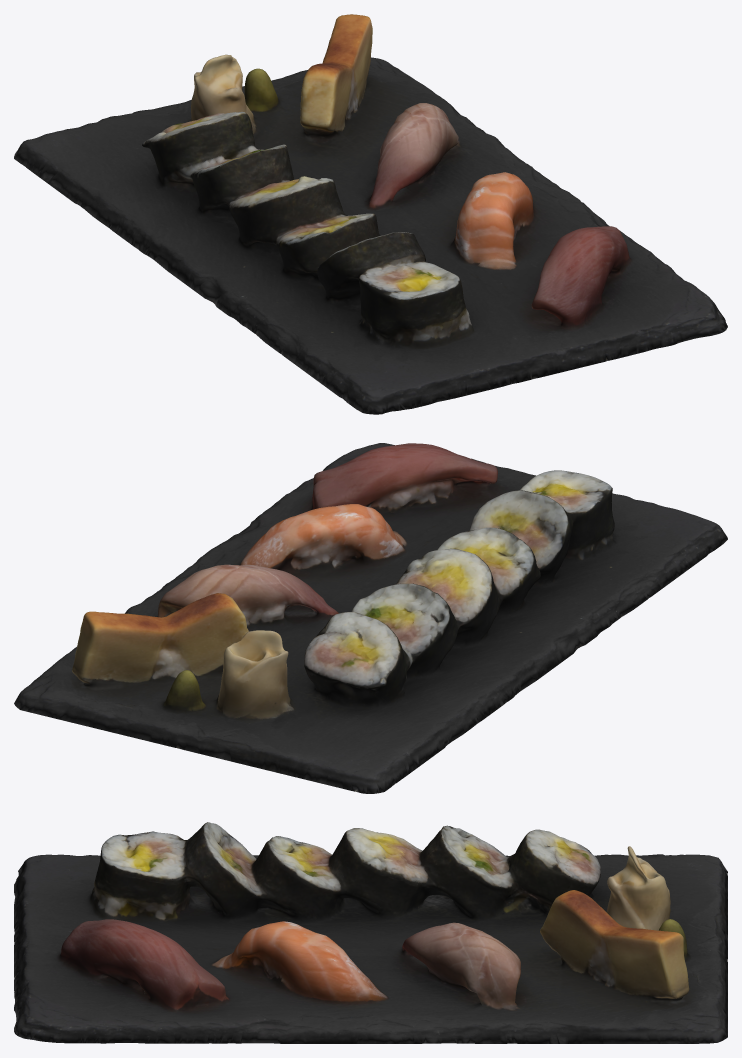
The model's file is Sushi_plate.FBX.
3 renders of one model, top to bottom at view 1: azimuth 30°, elevation 25°; view 2: azimuth 150°, elevation 25°; view 3: azimuth 270°, elevation 25°, orthographic.
Visible parts, largest first — view 1: Sushi_plate; view 2: Sushi_plate; view 3: Sushi_plate.
Boxes of the visible parts, box(x1,y1,x2,y2) form: Sushi_plate: box(14, 14, 727, 414); Sushi_plate: box(14, 443, 727, 793); Sushi_plate: box(14, 822, 727, 1043).
Size of the model in its own units: 3.1 by 0.7365 by 5.21.
1 material, 1 textured.
